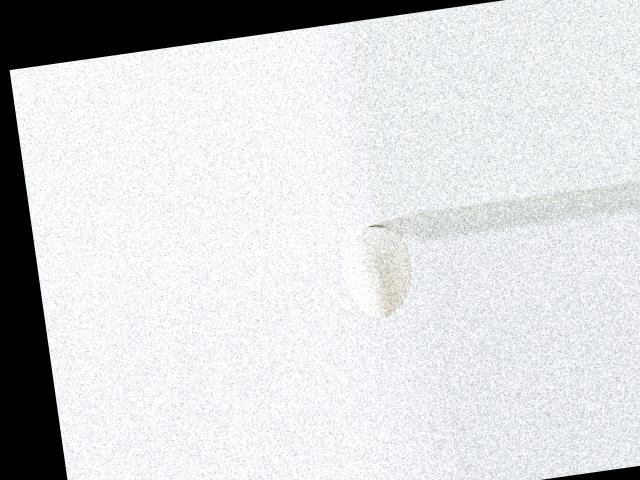egg: (337, 221, 417, 323)
